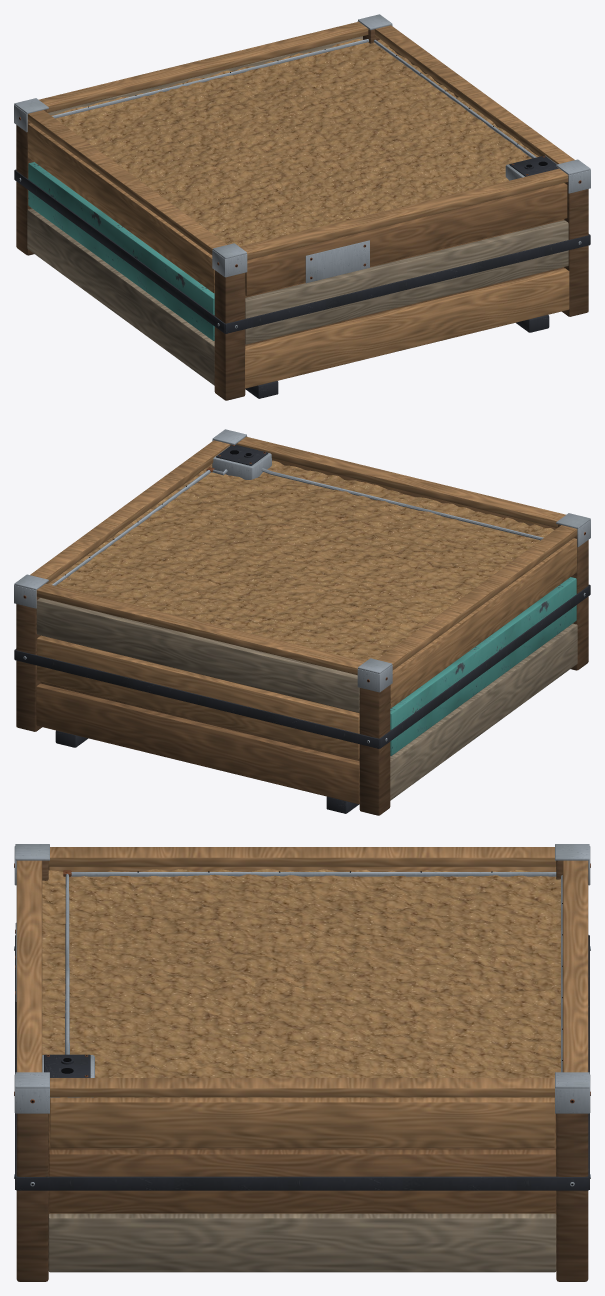
File: growbed.glb
3 renders of one model, top to bottom at view 1: azimuth 30°, elevation 25°; view 2: azimuth 150°, elevation 25°; view 3: azimuth 270°, elevation 25°, orthographic. The views are drawn at different scales.
Parts seen in each view (by area): view 1: Bed, Soil; view 2: Bed, Soil; view 3: Bed, Soil.
Part boxes in pixels (<box>): Bed: <box>14,14,590,400</box>; Soil: <box>51,39,539,246</box>; Bed: <box>14,429,590,815</box>; Soil: <box>49,460,554,661</box>; Bed: <box>14,844,590,1281</box>; Soil: <box>42,869,560,1097</box>.
Size of the model in its own units: 1.26 by 0.505 by 1.26.
Materials: 11 (9 with a texture image).
